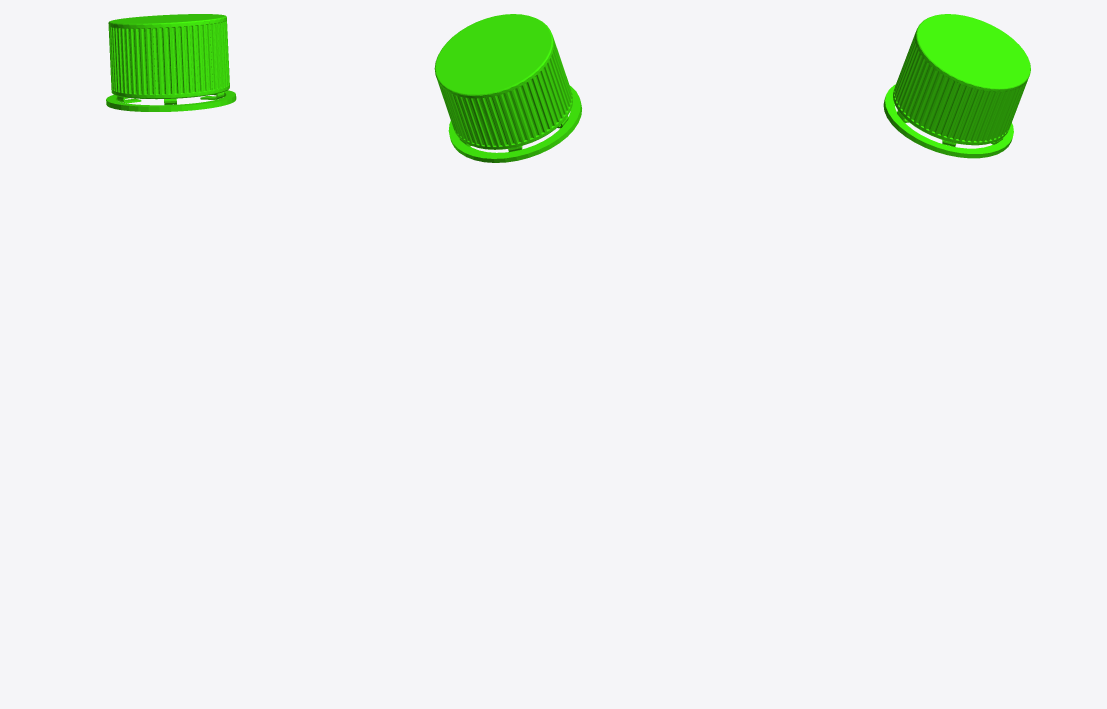
The model's file is bend_medium_0.obj.
The picture shows the model from 3 angles, left to right: view 1: azimuth 30°, elevation 25°; view 2: azimuth 150°, elevation 25°; view 3: azimuth 270°, elevation 25°; orthographic projection. The views are drawn at different scales.
Parts seen in each view (by area): view 1: model; view 2: model; view 3: model.
Boxes of the visible parts, left/top/right/bottom form: model: left=106, top=14, right=236, bottom=111; model: left=434, top=14, right=581, bottom=162; model: left=883, top=14, right=1030, bottom=158.
Size of the model in its own units: 0.1253 by 0.2667 by 0.1297.
1 material, 1 textured.
